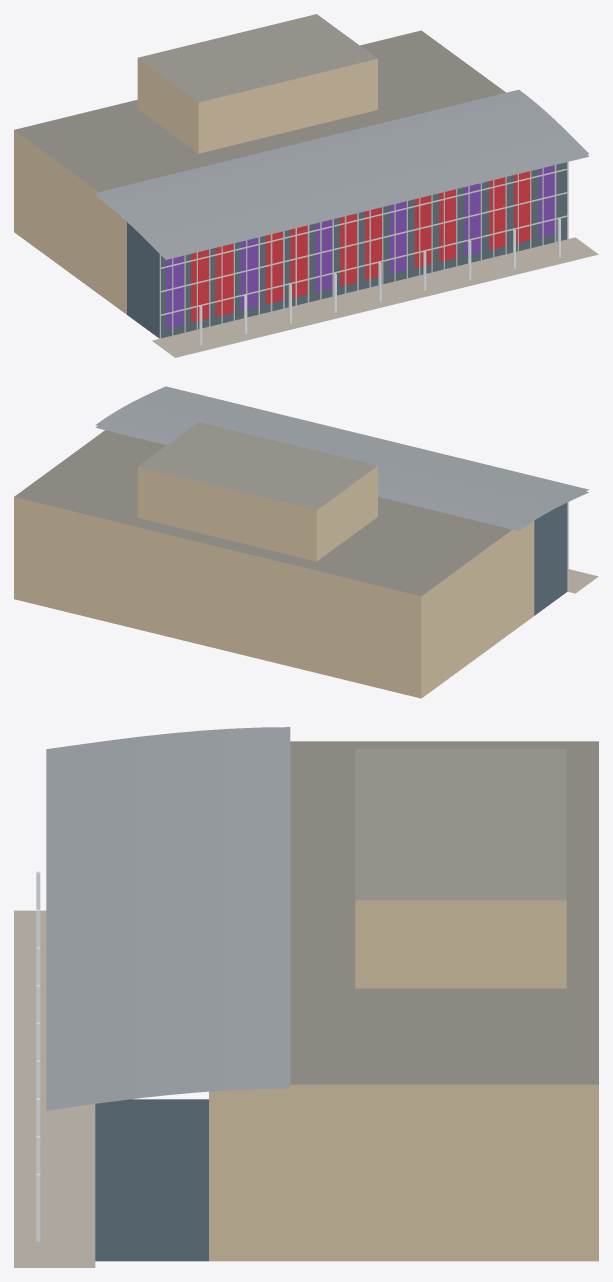
The model's file is mccaw_hall.glb.
The picture shows the model from 3 angles, top to bottom: view 1: azimuth 30°, elevation 25°; view 2: azimuth 150°, elevation 25°; view 3: azimuth 270°, elevation 25°; orthographic projection. The views are drawn at different scales.
Parts seen in each view (by area): view 1: mccaw_hall; view 2: mccaw_hall; view 3: mccaw_hall.
Part boxes in pixels (bbox=[...]): mccaw_hall: bbox=[14, 14, 598, 357]; mccaw_hall: bbox=[14, 386, 598, 698]; mccaw_hall: bbox=[14, 727, 598, 1267].
Bounding box in the file's own units: 104 × 36 × 72.
1 material, 1 textured.
